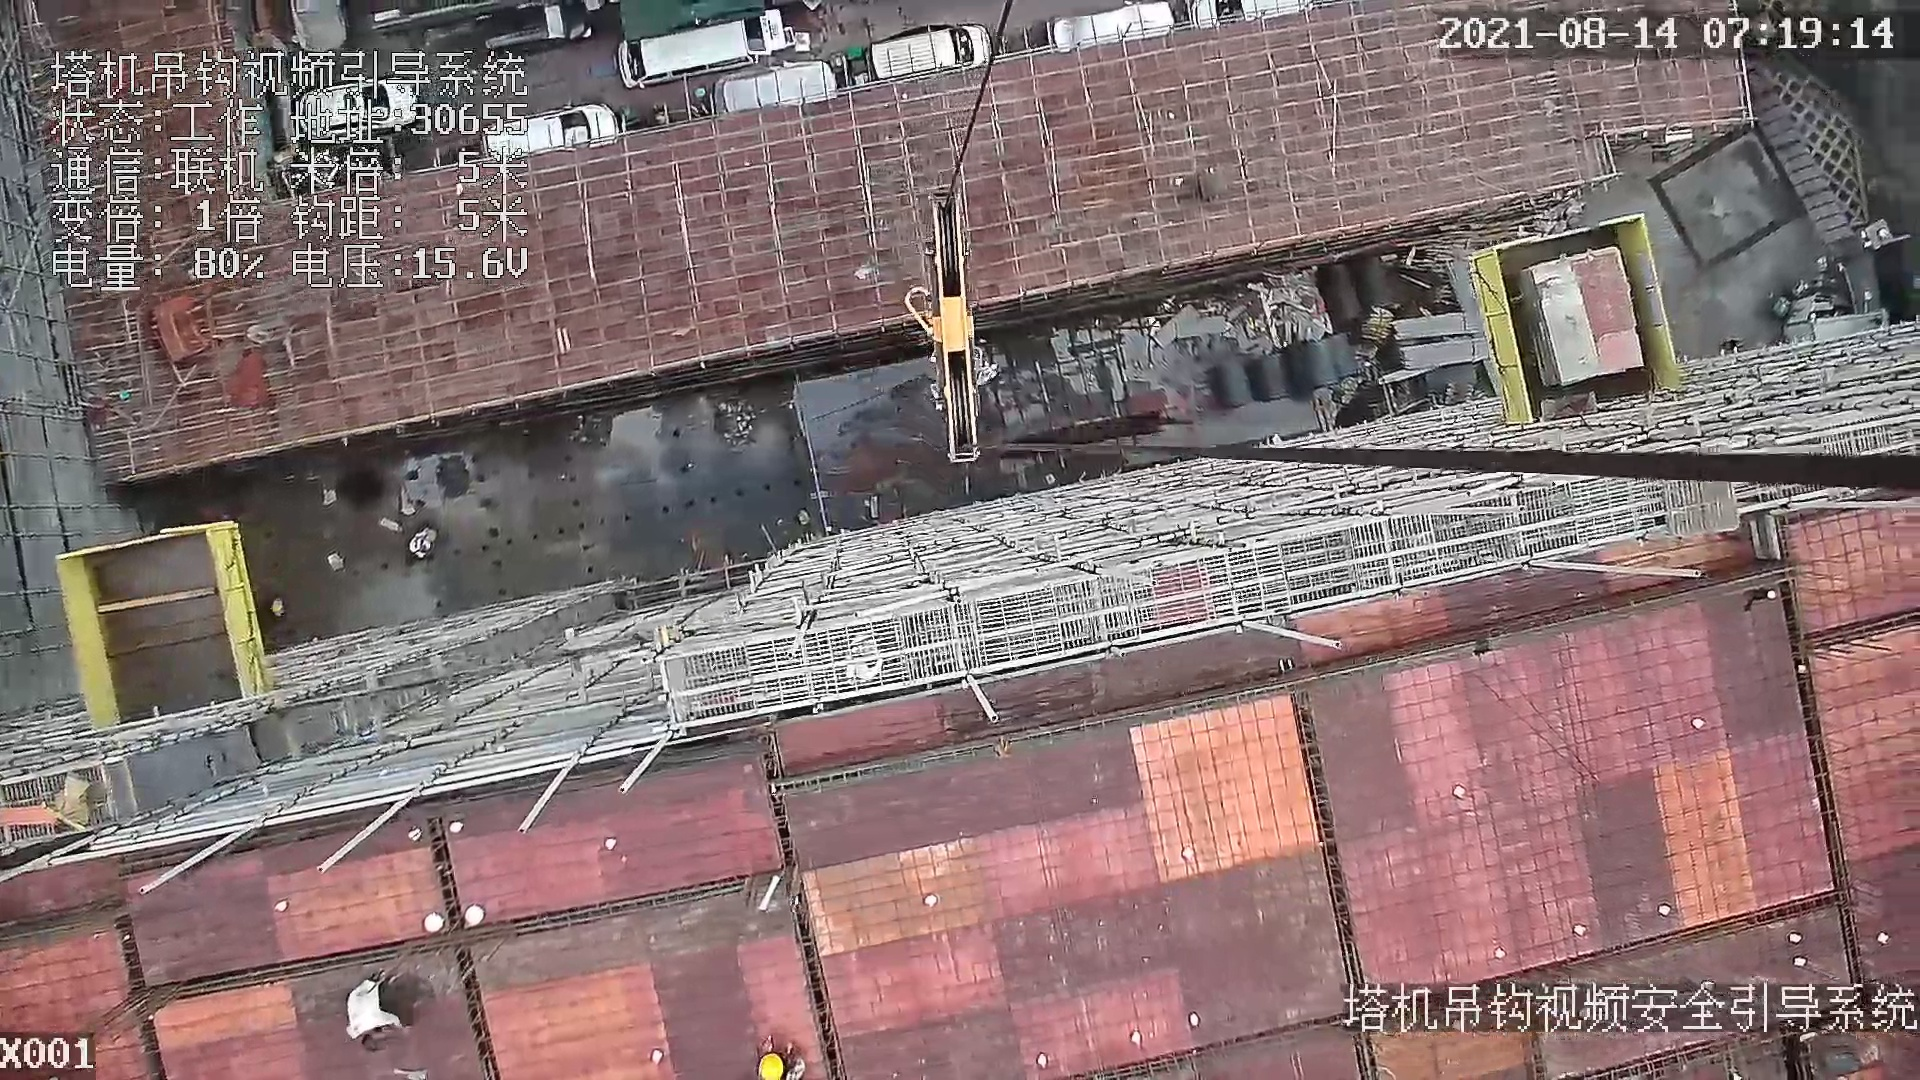hook: (897, 186, 990, 463)
person: (347, 976, 412, 1050)
